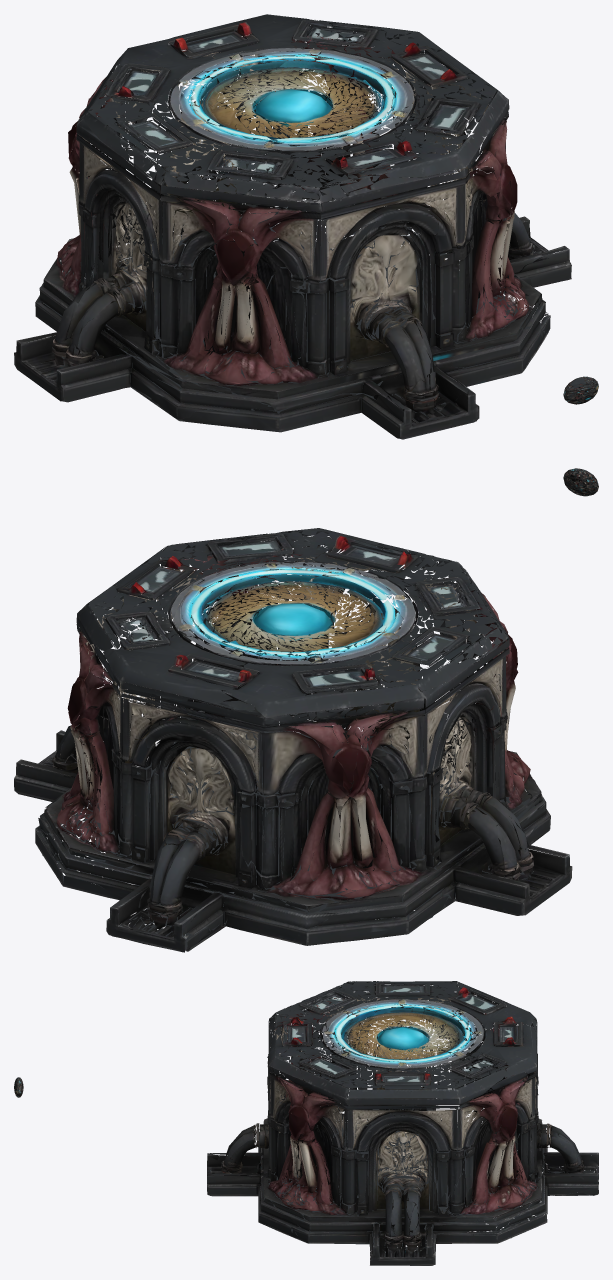
File: chen_boardroom_hologram_plinth.glb
The picture shows the model from 3 angles, top to bottom: view 1: azimuth 30°, elevation 25°; view 2: azimuth 150°, elevation 25°; view 3: azimuth 270°, elevation 25°; orthographic projection. The views are drawn at different scales.
Visible parts, largest first — view 1: node_0, HB_PULSE_00; view 2: node_0, HB_PULSE_00; view 3: node_0.
Part boxes in pixels (x1,y1,x2,y2): node_0: (14, 14, 571, 439); HB_PULSE_00: (563, 376, 598, 404); node_0: (14, 528, 572, 952); HB_PULSE_00: (563, 468, 598, 496); node_0: (207, 981, 598, 1265).
Size of the model in its own units: 1.09 by 0.4782 by 1.63.
Materials: 1 (1 with a texture image).
